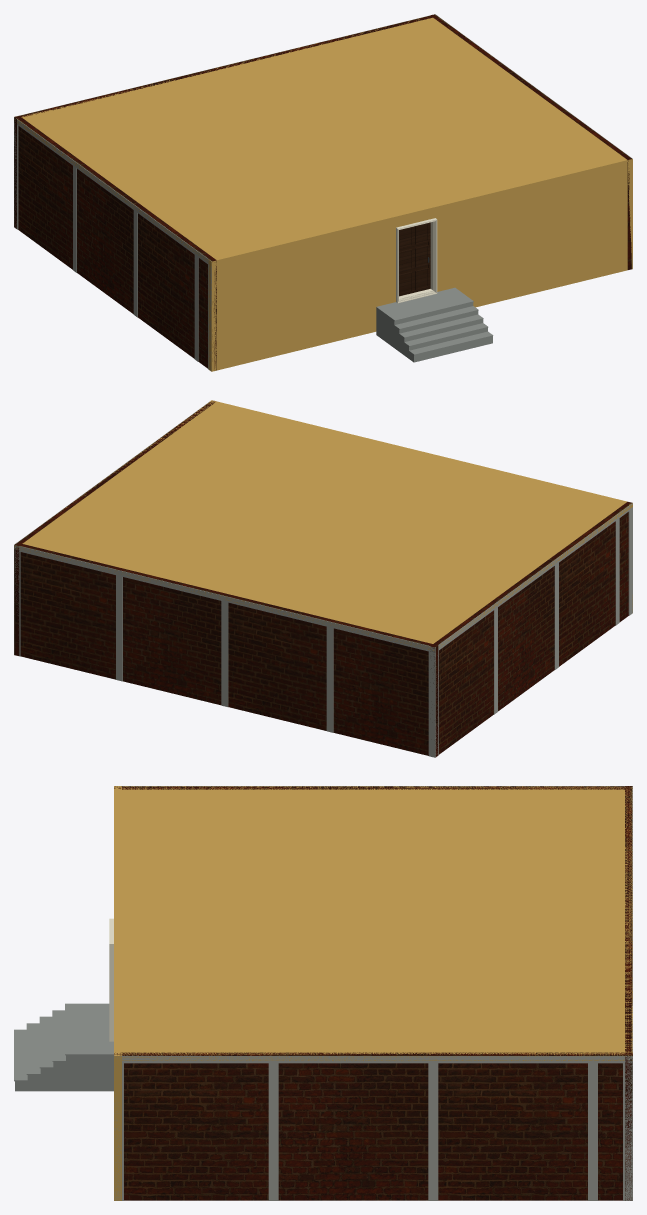
The model's file is building.glb.
3 views of the same model, one above another, from view 1: azimuth 30°, elevation 25°; view 2: azimuth 150°, elevation 25°; view 3: azimuth 270°, elevation 25° (orthographic). The views are drawn at different scales.
Visible parts, largest first — view 1: roof/house:0/roof_slab#0001, house:0/edge0/z0/house:0/edge0/z0/wall_0_0, house:0/edge3/z0/house:0/edge3/z0/wall_0_0, entrance/escalinata_ancha/entrance_steps#0001, house:0/edge2/z0/house:0/edge2/z0/wall_0_0, house:0/edge1/z0/house:0/edge1/z0/wall_0_0, house:0/edge3/z0/house:0/edge3/z0/beam_0_0, house:0/edge3/z0/house:0/edge3/z0/column_3_0, house:0/edge3/z0/house:0/edge3/z0/column_4_0; view 2: roof/house:0/roof_slab#0001, house:0/edge2/z0/house:0/edge2/z0/wall_0_0, house:0/edge3/z0/house:0/edge3/z0/wall_0_0, house:0/edge2/z0/house:0/edge2/z0/beam_0_0, house:0/edge1/z0/house:0/edge1/z0/wall_0_0, house:0/edge0/z0/house:0/edge0/z0/wall_0_0, house:0/edge3/z0/house:0/edge3/z0/beam_0_0, house:0/edge2/z0/house:0/edge2/z0/column_1_0, house:0/edge2/z0/house:0/edge2/z0/column_4_0, house:0/edge2/z0/house:0/edge2/z0/column_3_0, house:0/edge2/z0/house:0/edge2/z0/column_2_0, house:0/edge3/z0/house:0/edge3/z0/column_4_0 (+2 smaller); view 3: roof/house:0/roof_slab#0001, house:0/edge1/z0/house:0/edge1/z0/wall_0_0, entrance/escalinata_ancha/entrance_steps#0001, house:0/edge1/z0/house:0/edge1/z0/beam_0_0, house:0/edge0/z0/house:0/edge0/z0/wall_0_0, house:0/edge2/z0/house:0/edge2/z0/wall_0_0, house:0/edge3/z0/house:0/edge3/z0/wall_0_0, house:0/edge1/z0/house:0/edge1/z0/column_2_0, house:0/edge1/z0/house:0/edge1/z0/column_3_0, house:0/edge1/z0/house:0/edge1/z0/column_4_0, house:0/edge1/z0/house:0/edge1/z0/column_1_0, house:0/edge0/z0/opening_u7.00_v0.90/door_moulding#0028.
Part boxes in pixels (<box>): roof/house:0/roof_slab#0001: <box>14,17,632,264</box>; house:0/edge0/z0/house:0/edge0/z0/wall_0_0: <box>208,158,632,371</box>; house:0/edge3/z0/house:0/edge3/z0/wall_0_0: <box>15,116,216,370</box>; entrance/escalinata_ancha/entrance_steps#0001: <box>376,287,492,362</box>; house:0/edge2/z0/house:0/edge2/z0/wall_0_0: <box>14,15,436,228</box>; house:0/edge1/z0/house:0/edge1/z0/wall_0_0: <box>430,14,631,269</box>; house:0/edge3/z0/house:0/edge3/z0/beam_0_0: <box>14,117,211,266</box>; house:0/edge3/z0/house:0/edge3/z0/column_3_0: <box>133,210,137,317</box>; house:0/edge3/z0/house:0/edge3/z0/column_4_0: <box>194,255,198,361</box>; roof/house:0/roof_slab#0001: <box>14,400,632,650</box>; house:0/edge2/z0/house:0/edge2/z0/wall_0_0: <box>15,543,438,757</box>; house:0/edge3/z0/house:0/edge3/z0/wall_0_0: <box>430,501,632,754</box>; house:0/edge2/z0/house:0/edge2/z0/beam_0_0: <box>14,545,435,652</box>; house:0/edge1/z0/house:0/edge1/z0/wall_0_0: <box>14,401,214,655</box>; house:0/edge0/z0/house:0/edge0/z0/wall_0_0: <box>209,400,632,610</box>; house:0/edge3/z0/house:0/edge3/z0/beam_0_0: <box>435,503,632,652</box>; house:0/edge2/z0/house:0/edge2/z0/column_1_0: <box>428,651,435,757</box>; house:0/edge2/z0/house:0/edge2/z0/column_4_0: <box>326,626,333,732</box>; house:0/edge2/z0/house:0/edge2/z0/column_3_0: <box>221,601,228,706</box>; house:0/edge2/z0/house:0/edge2/z0/column_2_0: <box>116,575,122,681</box>; house:0/edge3/z0/house:0/edge3/z0/column_4_0: <box>615,518,619,625</box>; roof/house:0/roof_slab#0001: <box>114,786,632,1060</box>; house:0/edge1/z0/house:0/edge1/z0/wall_0_0: <box>114,1052,632,1200</box>; entrance/escalinata_ancha/entrance_steps#0001: <box>15,1003,113,1091</box>; house:0/edge1/z0/house:0/edge1/z0/beam_0_0: <box>114,1055,632,1063</box>; house:0/edge0/z0/house:0/edge0/z0/wall_0_0: <box>114,786,121,1200</box>; house:0/edge2/z0/house:0/edge2/z0/wall_0_0: <box>625,786,632,1200</box>; house:0/edge3/z0/house:0/edge3/z0/wall_0_0: <box>114,786,632,789</box>; house:0/edge1/z0/house:0/edge1/z0/column_2_0: <box>268,1063,278,1200</box>; house:0/edge1/z0/house:0/edge1/z0/column_3_0: <box>428,1063,438,1200</box>; house:0/edge1/z0/house:0/edge1/z0/column_4_0: <box>588,1063,597,1200</box>; house:0/edge1/z0/house:0/edge1/z0/column_1_0: <box>623,1063,632,1200</box>; house:0/edge0/z0/opening_u7.00_v0.90/door_moulding#0028: <box>109,918,113,1041</box>.
Bounding box in the file's own units: 16 × 4.12 × 15.51.
7 materials, 2 textured.
